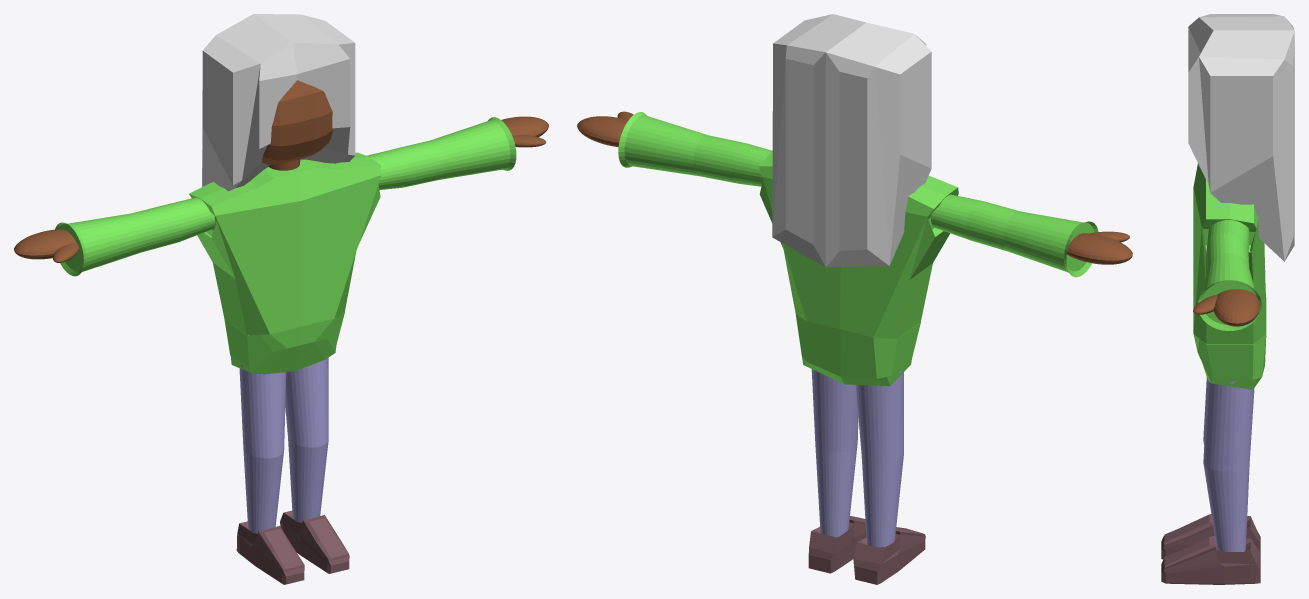
The model's file is La Trombonette_Character 8.fbx.
3 views of the same model, side by side, from view 1: azimuth 30°, elevation 25°; view 2: azimuth 150°, elevation 25°; view 3: azimuth 270°, elevation 25° (orthographic). The views are drawn at different scales.
Parts seen in each view (by area): view 1: Torse, Cube, Jambe, Head, Sphere; view 2: Cube, Torse, Jambe, Sphere; view 3: Cube, Jambe, Torse, Sphere.
Boxes of the visible parts, left/top/right/bottom form: Torse: left=55, top=117, right=516, bottom=374; Cube: left=202, top=14, right=355, bottom=191; Jambe: left=236, top=357, right=349, bottom=584; Head: left=261, top=80, right=332, bottom=165; Sphere: left=14, top=116, right=548, bottom=262; Cube: left=772, top=14, right=931, bottom=267; Torse: left=618, top=112, right=1098, bottom=386; Jambe: left=808, top=369, right=925, bottom=584; Sphere: left=577, top=111, right=1132, bottom=264; Cube: left=1188, top=14, right=1294, bottom=261; Jambe: left=1161, top=377, right=1260, bottom=584; Torse: left=1193, top=163, right=1266, bottom=389; Sphere: left=1193, top=289, right=1259, bottom=326.
Bounding box in the file's own units: 1212 × 1128 × 254.
